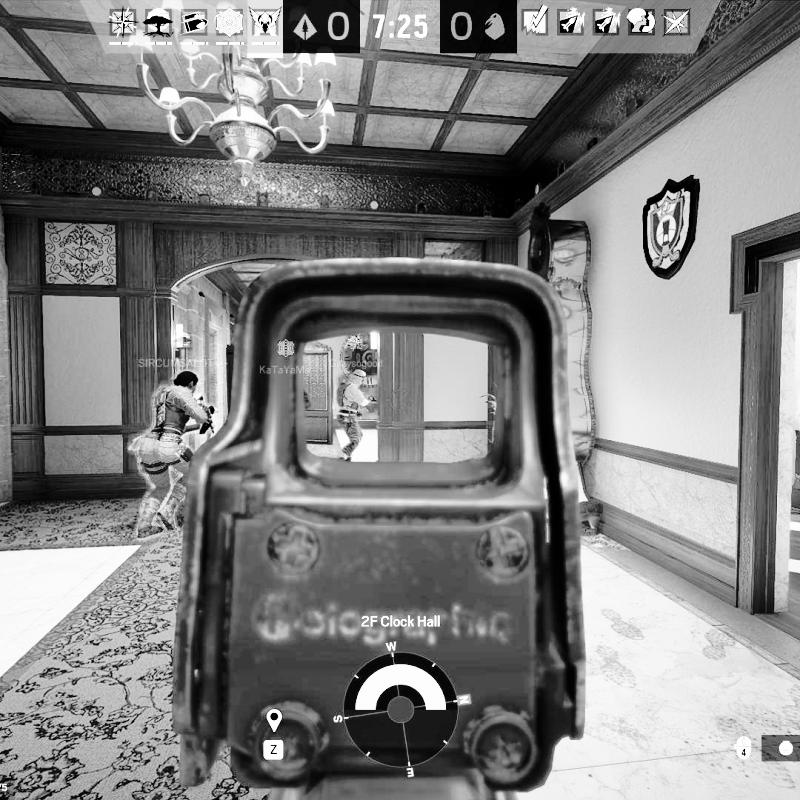Character: (132, 369, 219, 539), (332, 368, 378, 462)
Friend_label: (136, 328, 222, 371), (325, 334, 389, 372), (256, 338, 316, 377)
Head: (172, 371, 198, 393), (349, 368, 366, 387)
